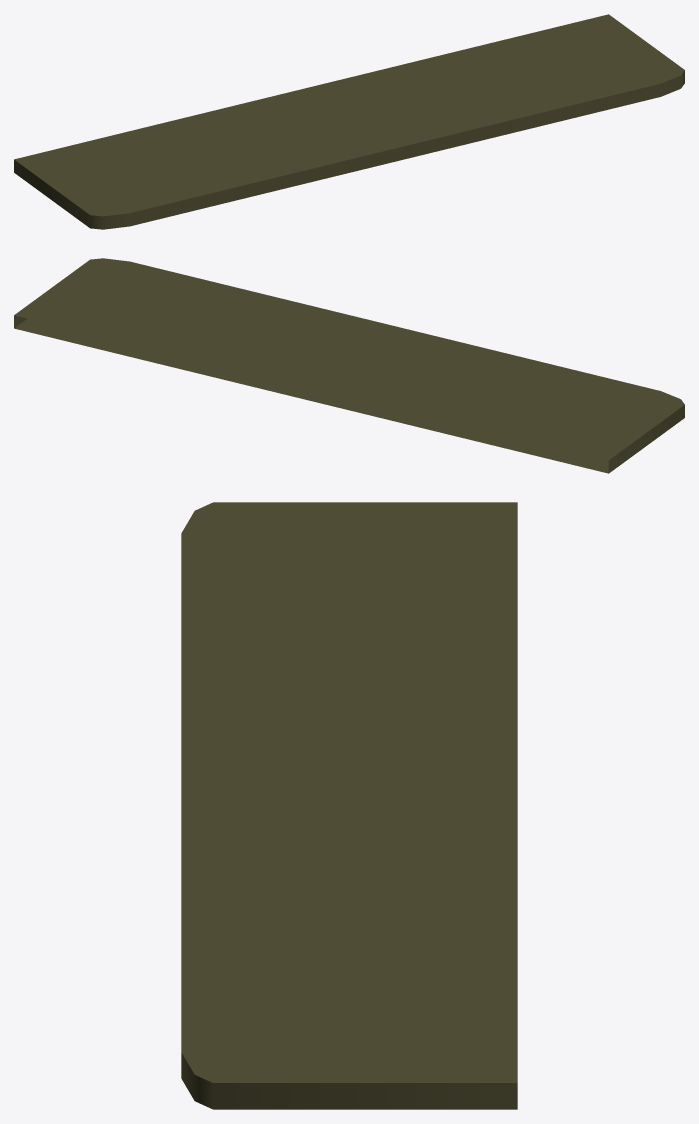
Rendered from Mesa lado masculino.glb.
The picture shows the model from 3 angles, top to bottom: view 1: azimuth 30°, elevation 25°; view 2: azimuth 150°, elevation 25°; view 3: azimuth 270°, elevation 25°; orthographic projection. The views are drawn at different scales.
Parts seen in each view (by area): view 1: mesa masculina; view 2: mesa masculina; view 3: mesa masculina.
Boxes of the visible parts, bbox=[...] form: mesa masculina: bbox=[14, 14, 684, 229]; mesa masculina: bbox=[14, 258, 684, 473]; mesa masculina: bbox=[181, 502, 517, 1109].
Size of the model in its own units: 3.62 by 0.0771 by 0.8875.
